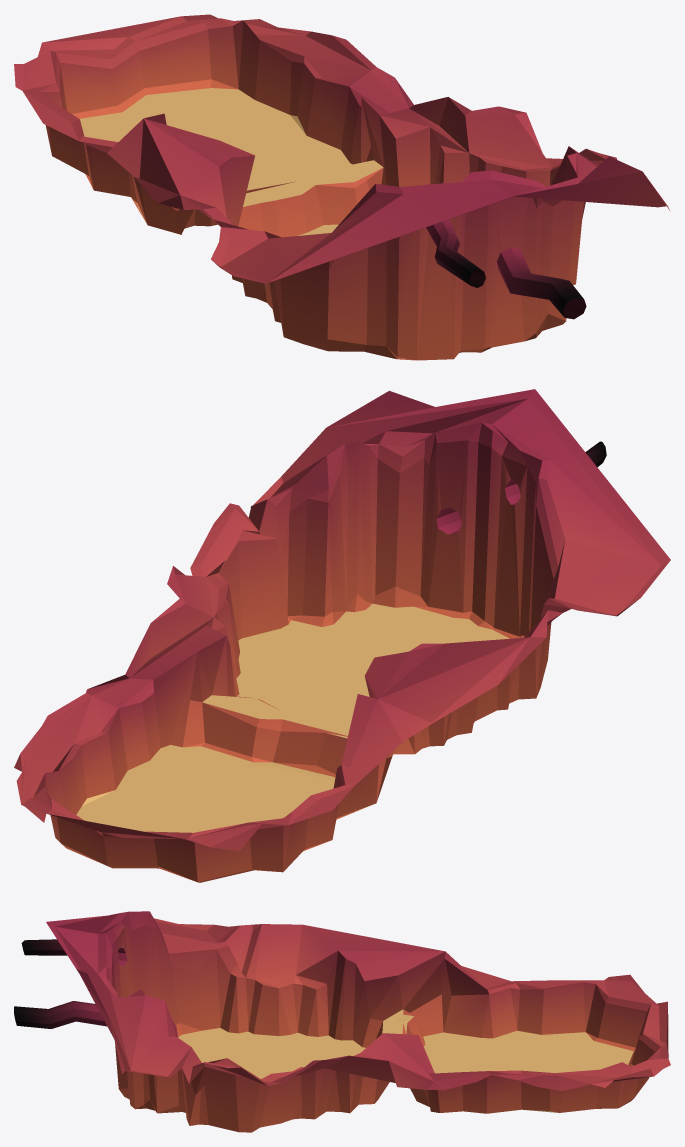
The model's file is MOD_Level5.fbx.
3 renders of one model, top to bottom at view 1: azimuth 30°, elevation 25°; view 2: azimuth 150°, elevation 25°; view 3: azimuth 270°, elevation 25°, orthographic. The views are drawn at different scales.
Parts seen in each view (by area): view 1: MOD_Level6, MOD_Level5_Floor; view 2: MOD_Level6, MOD_Level5_Floor; view 3: MOD_Level6, MOD_Level5_Floor.
Boxes of the visible parts, x1,y1,x2,y2 form: MOD_Level6: (14,14,669,360); MOD_Level5_Floor: (80,88,383,235); MOD_Level6: (14,389,670,882); MOD_Level5_Floor: (76,603,509,832); MOD_Level6: (14,911,670,1132); MOD_Level5_Floor: (178,1009,633,1112).
Bounding box in the file's own units: 10.53 × 5.04 × 19.97.
Materials: 3 (2 with a texture image).
